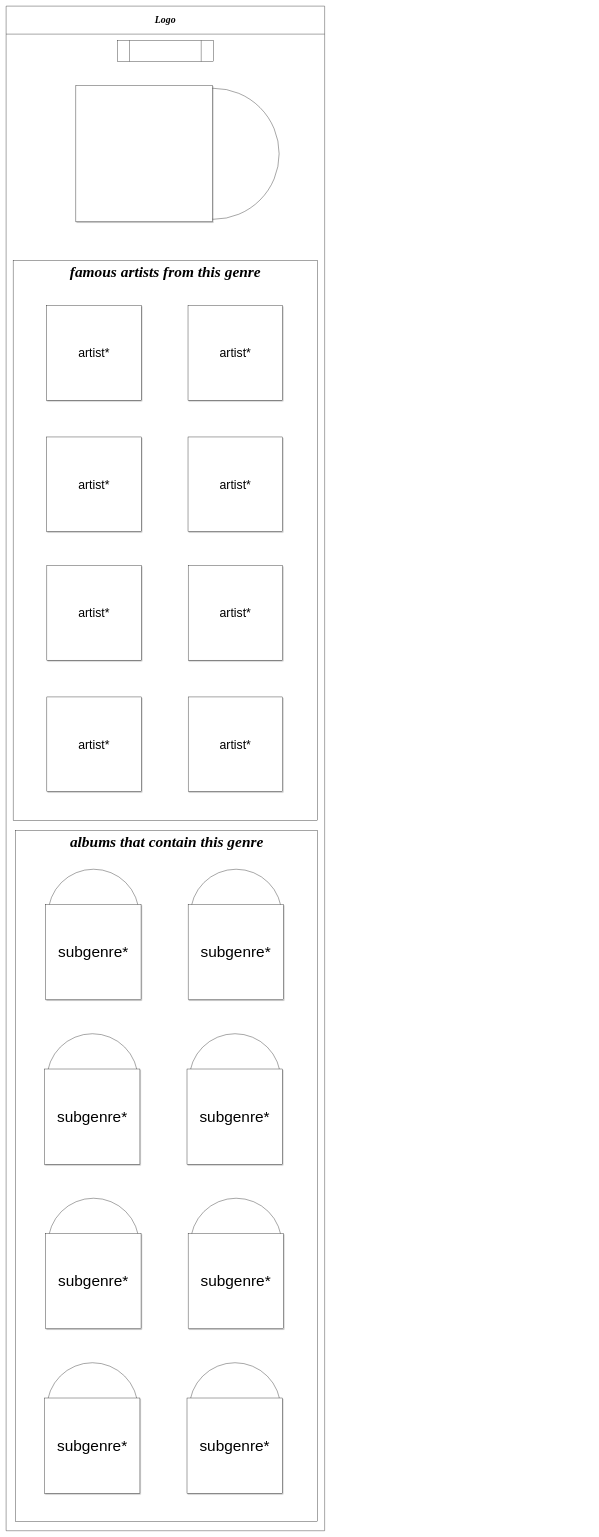
The diagram is 599 pixels wide and 1537 high, and some of its shapes have lost their labels. The shapes that lost their labels are listed below. From the top down, each one's centre as x and y in pixels, then its label:
the point at 165,50: choose your genre
the point at 144,154: * Genre *
